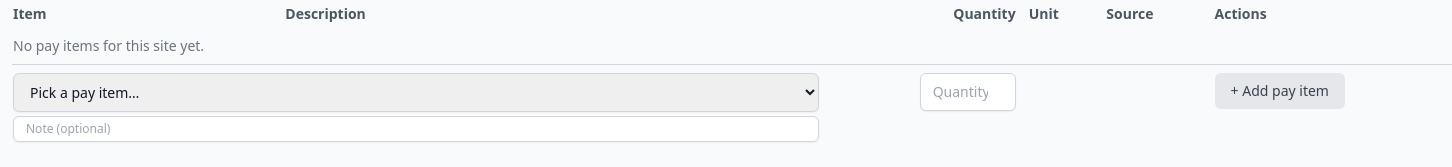
Scenario: SitePayItemsEditor › shows the picked pay item's unit in the add row
expect the text "No pay items for this site yet." is shown: met, box [12,28,1451,64]
Select "6.70 AB (HW-200(S)) — Maintenance and protection of traffic" in the dropdown named "Pay item" at [416, 92], box [13,73,819,112]
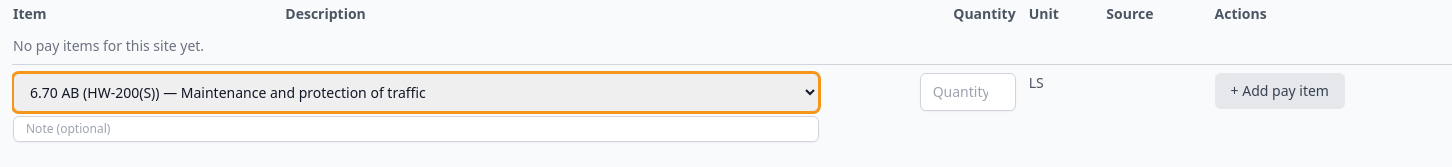
expect the row "LS + Add pay item" is shown: met, box [12,64,1451,150]
